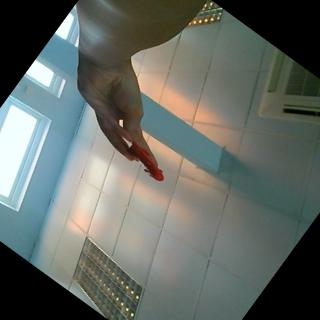Rocket: (121, 141, 172, 185)
